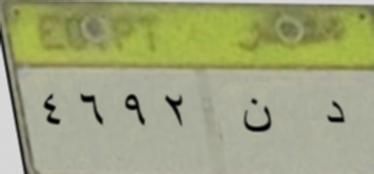2: (156, 92, 194, 134)
4: (39, 86, 66, 143)
6: (75, 88, 108, 137)
9: (118, 86, 152, 137)
daal: (312, 93, 347, 134)
noon: (231, 94, 278, 140)
